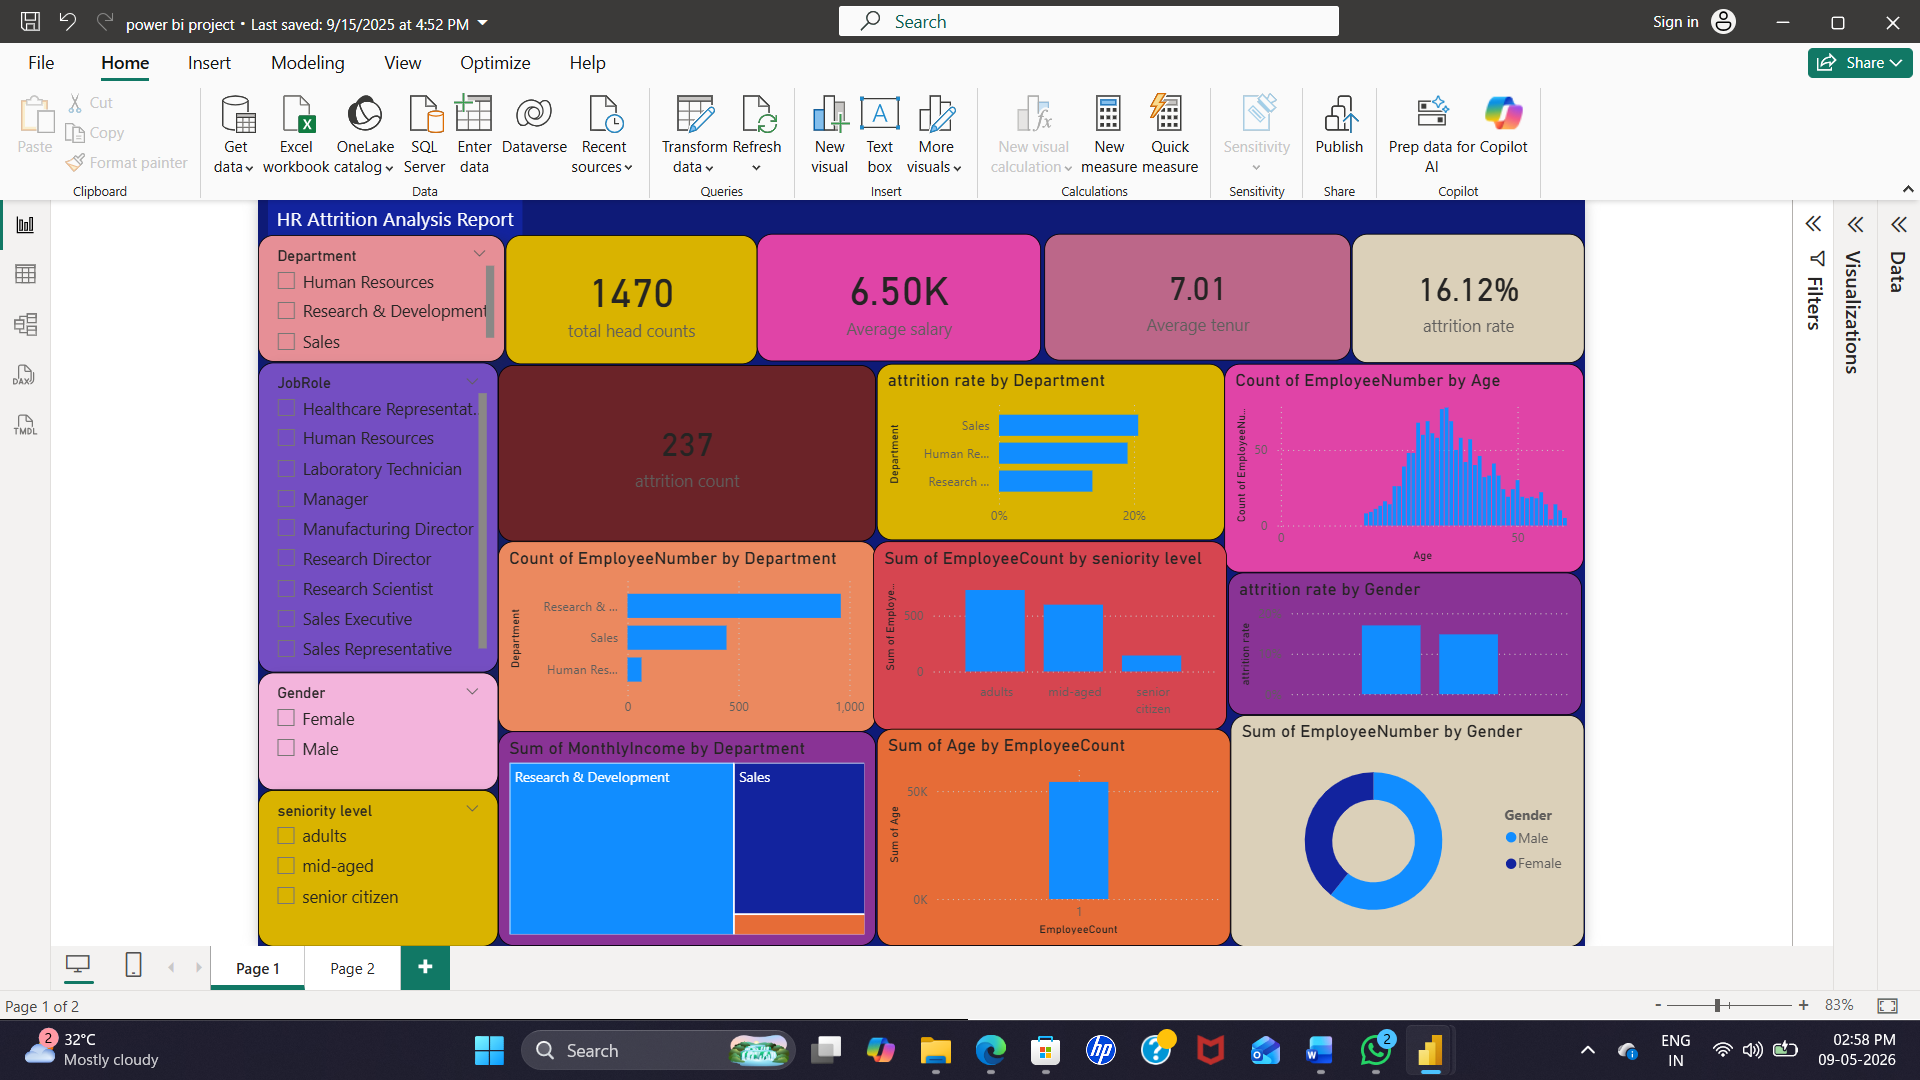

What the dashboard file says about the page in this screenshot:
{"tool":"powerbi","page":{"name":"Page 1","canvas":[1280,720],"ordinal":0},"visuals":[{"type":"textbox","box":[9.6,0,245.6,68.6],"z":0},{"type":"slicer","fields":{"Values":["HR_Data.Department"]},"box":[0,34.3,238.8,122.1],"z":1000},{"type":"slicer","fields":{"Values":["HR_Data.JobRole"]},"box":[0,156.4,231.9,299.1],"z":2000},{"type":"slicer","fields":{"Values":["HR_Data.Gender"]},"box":[0,455.6,231.9,113.9],"z":3000},{"type":"card","fields":{"Values":["CountNonNull(HR_Data.EmployeeNumber)"]},"box":[238.8,34.3,242.9,124.9],"z":4000},{"type":"card","fields":{"Values":["Avg(HR_Data.MonthlyIncome)"]},"box":[481.6,32.9,274.4,123.5],"z":5000},{"type":"card","fields":{"Values":["Avg(HR_Data.YearsAtCompany)"]},"box":[758.8,32.9,296.4,122.1],"z":6000},{"type":"slicer","fields":{"Values":["HR_Data.seniority level"]},"box":[0,569.5,231.9,150.9],"z":7000},{"type":"card","fields":{"Values":["HR_Data.attrition count"]},"box":[231.9,159.2,365,170.2],"z":8000},{"type":"card","fields":{"Values":["HR_Data.attrition rate"]},"box":[1055.2,32.9,225,124.9],"z":9000},{"type":"clusteredBarChart","fields":{"Category":["HR_Data.Department"],"Y":["CountNonNull(HR_Data.EmployeeNumber)"]},"box":[231.9,329.3,365,183.9],"z":10000},{"type":"clusteredBarChart","fields":{"Category":["HR_Data.Department"],"Y":["HR_Data.attrition rate"]},"box":[596.9,157.8,336.2,170.2],"z":11000},{"type":"columnChart","fields":{"Category":["HR_Data.Age"],"Y":["CountNonNull(HR_Data.EmployeeNumber)"]},"box":[933.1,157.8,347.2,201.7],"z":12000},{"type":"donutChart","fields":{"Category":["HR_Data.Gender"],"Y":["Sum(HR_Data.EmployeeNumber)"]},"box":[938.6,496.7,341.7,223.7],"z":13000},{"type":"clusteredColumnChart","fields":{"Y":["HR_Data.attrition rate"],"Category":["HR_Data.Gender"]},"box":[935.9,359.5,341.7,137.2],"z":14000},{"type":"columnChart","fields":{"Category":["HR_Data.seniority level"],"Y":["Sum(HR_Data.EmployeeCount)"]},"box":[594.2,329.3,341.7,182.5],"z":15000},{"type":"treemap","fields":{"Group":["HR_Data.Department"],"Values":["Sum(HR_Data.MonthlyIncome)"]},"box":[231.9,513.2,365,207.2],"z":16000},{"type":"columnChart","fields":{"Y":["Sum(HR_Data.Age)"],"Category":["HR_Data.EmployeeCount"]},"box":[596.9,510.5,341.7,209.9],"z":17000}]}

Visuals, with their boxes on the page's 1280x720 design canvas (x1, y1, x2, y2). These are canvas units, not pixel positions in the 1920x1080 screenshot, which may show the page scaled, cropped or inside an application window:
textbox: 10,0,255,69
slicer - HR_Data.Department: 0,34,239,156
slicer - HR_Data.JobRole: 0,156,232,456
slicer - HR_Data.Gender: 0,456,232,570
card - CountNonNull(HR_Data.EmployeeNumber): 239,34,482,159
card - Avg(HR_Data.MonthlyIncome): 482,33,756,156
card - Avg(HR_Data.YearsAtCompany): 759,33,1055,155
slicer - HR_Data.seniority level: 0,570,232,720
card - HR_Data.attrition count: 232,159,597,329
card - HR_Data.attrition rate: 1055,33,1280,158
clusteredBarChart - HR_Data.Department x CountNonNull(HR_Data.EmployeeNumber): 232,329,597,513
clusteredBarChart - HR_Data.Department x HR_Data.attrition rate: 597,158,933,328
columnChart - HR_Data.Age x CountNonNull(HR_Data.EmployeeNumber): 933,158,1280,360
donutChart - HR_Data.Gender x Sum(HR_Data.EmployeeNumber): 939,497,1280,720
clusteredColumnChart - HR_Data.attrition rate x HR_Data.Gender: 936,360,1278,497
columnChart - HR_Data.seniority level x Sum(HR_Data.EmployeeCount): 594,329,936,512
treemap - HR_Data.Department x Sum(HR_Data.MonthlyIncome): 232,513,597,720
columnChart - Sum(HR_Data.Age) x HR_Data.EmployeeCount: 597,510,939,720
